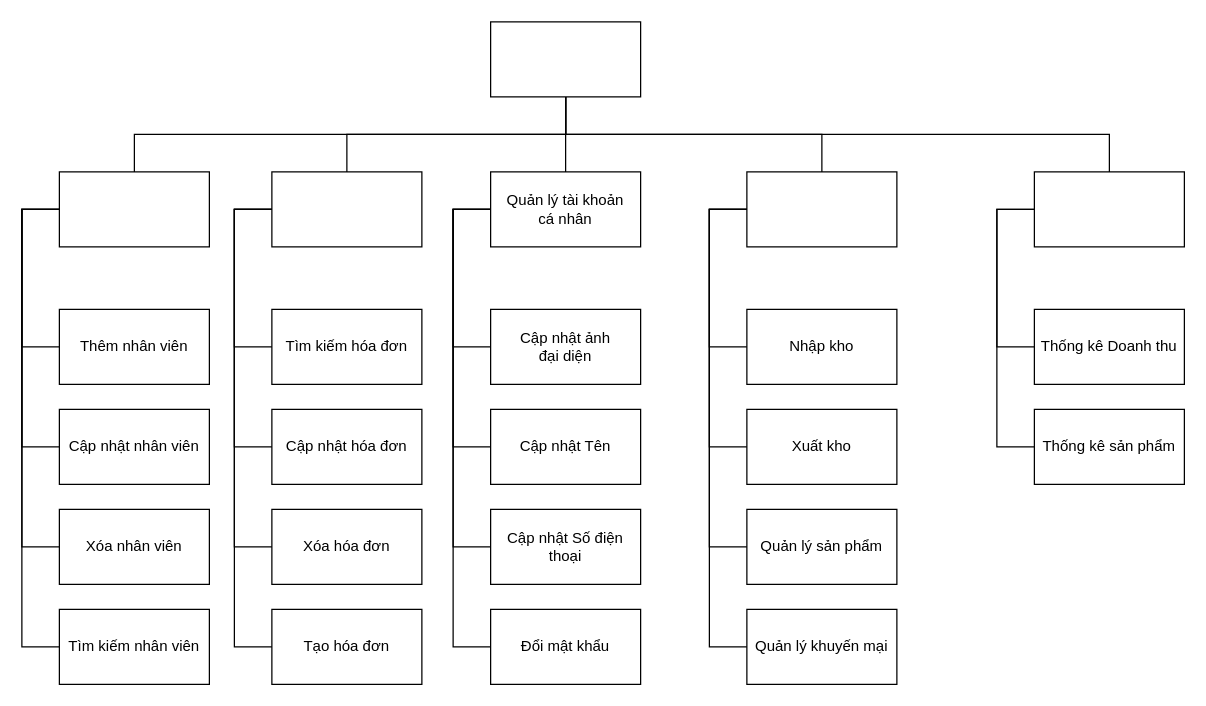
This 1206x706 diagram has some shape labels left out. The box of each missing label's shape, as (x1, y1, x2, y2) in pixels:
Hệ thống quản lý siêu thị mini: (489, 21, 641, 97)
Quản lý Hóa đơn: (271, 171, 422, 247)
Quản lý Kho: (746, 171, 897, 247)
Quản lý nhân viên: (58, 171, 209, 247)
Thống kê: (1033, 171, 1184, 247)
